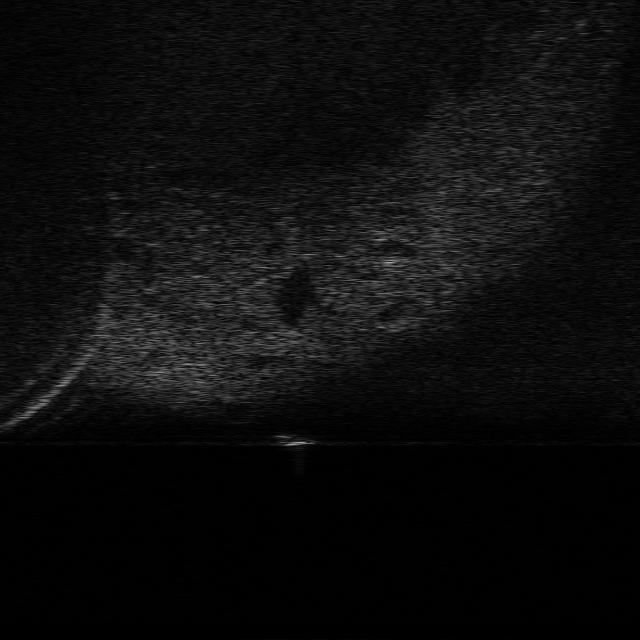cube: (272, 428, 324, 448)
